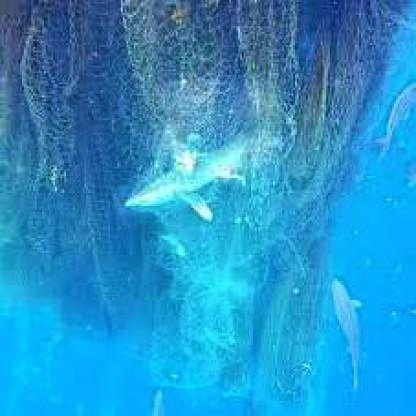net: (2, 2, 394, 230)
